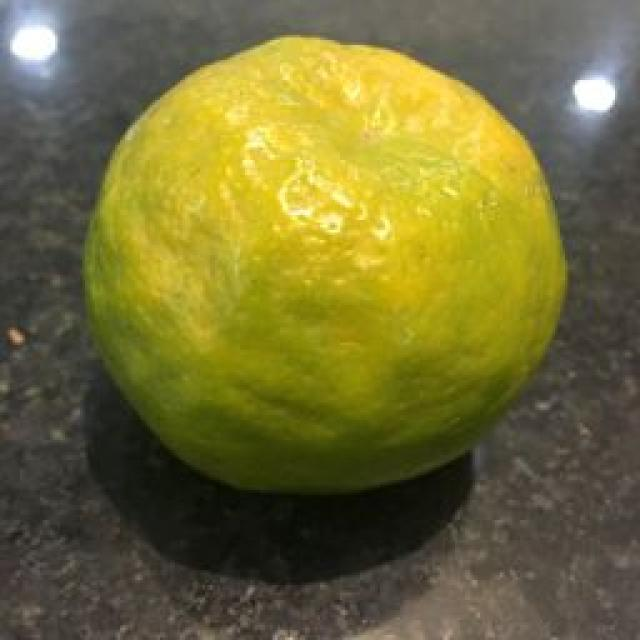Good_Orange: (80, 35, 568, 500)
